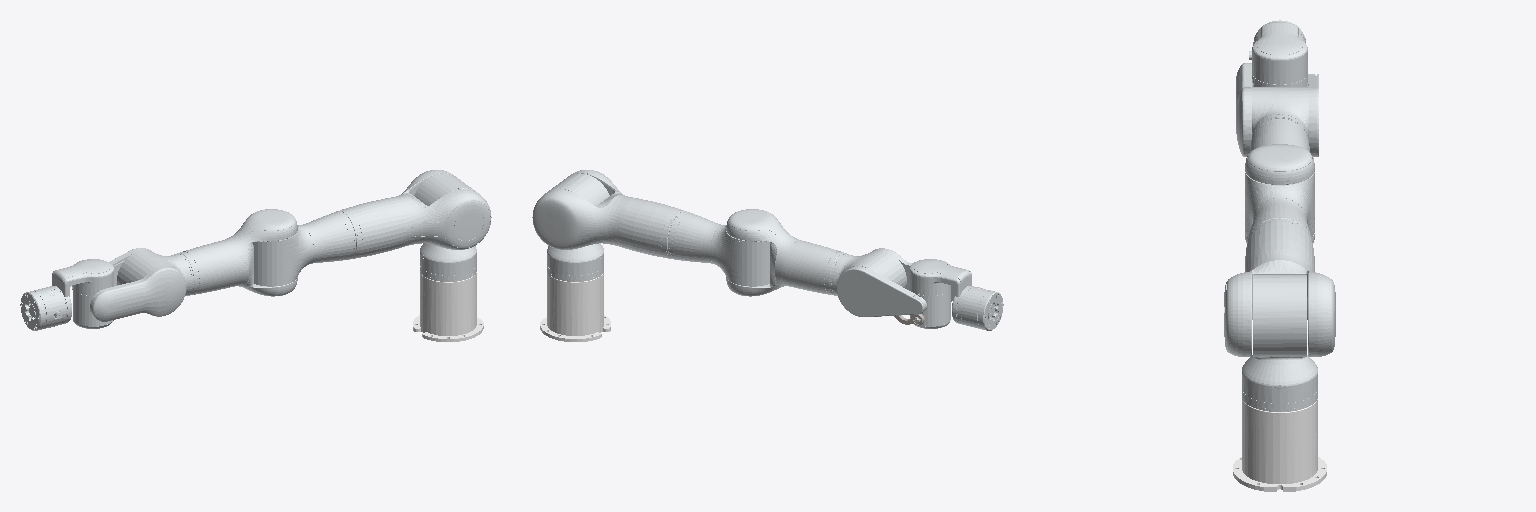
The robot description file, URDF, robot "RXR75S-6F-4C":
<?xml version="1.0" encoding="utf-8"?>
<!-- This URDF was automatically created by SolidWorks to URDF Exporter! Originally created by Stephen Brawner (brawner@gmail.com) 
     Commit Version: 1.6.0-1-g15f4949  Build Version: 1.6.7594.29634
     For more information, please see http://wiki.ros.org/sw_urdf_exporter -->
<robot
  name="RXR75S-6F-4C">
  <link
    name="r_baselink">
    <inertial>
      <origin
        xyz="0.000065 0.000085 0.062107"
        rpy="0 0 0" />
      <mass
        value="1.233" />
      <inertia
        ixx="0.001154175"
        ixy="-0.000000419"
        ixz="0.000004979"
        iyy="0.001152603"
        iyz="0.000003920"
        izz="0.000883372" />
    </inertial>
    <visual>
      <origin
        xyz="0 0 0"
        rpy="0 0 0" />
      <geometry>
        <mesh
          filename="package://RXR75S-6F-4C/meshes/r_baselink.STL" />
      </geometry>
      <material
        name="">
        <color
          rgba="1 1 1 1" />
      </material>
    </visual>
    <collision>
      <origin
        xyz="0 0 0"
        rpy="0 0 0" />
      <geometry>
        <mesh
          filename="package://RXR75S-6F-4C/meshes/r_baselink.STL" />
      </geometry>
    </collision>
  </link>
  <link
    name="r_link1">
    <inertial>
      <origin
        xyz="0.000138 0.000982 -0.012182"
        rpy="0 0 0" />
      <mass
        value="1.821" />
      <inertia
        ixx="0.003045204"
        ixy="-0.000009121"
        ixz="-0.000003017"
        iyy="0.002724994"
        iyz="-0.000038741"
        izz="0.001902354" />
    </inertial>
    <visual>
      <origin
        xyz="0 0 0"
        rpy="0 0 0" />
      <geometry>
        <mesh
          filename="package://RXR75S-6F-4C/meshes/r_link1.STL" />
      </geometry>
      <material
        name="">
        <color
          rgba="0.89804 0.91765 0.92941 1" />
      </material>
    </visual>
    <collision>
      <origin
        xyz="0 0 0"
        rpy="0 0 0" />
      <geometry>
        <mesh
          filename="package://RXR75S-6F-4C/meshes/r_link1.STL" />
      </geometry>
    </collision>
  </link>
  <joint
    name="r_joint1"
    type="revolute">
    <origin
      xyz="0 0 0.1855"
      rpy="0 0 0" />
    <parent
      link="r_baselink" />
    <child
      link="r_link1" />
    <axis
      xyz="0 0 1" />
    <limit
      lower="-3.054"
      upper="3.054"
      effort="60"
      velocity="3.14" />
  </joint>
  <link
    name="r_link2">
    <inertial>
      <origin
        xyz="0.000719 -0.098870 -0.001075"
        rpy="0 0 0" />
      <mass
        value="1.774" />
      <inertia
        ixx="0.007781312"
        ixy="-0.000016357"
        ixz="0.000000833"
        iyy="0.002081482"
        iyz="-0.00099706"
        izz="0.007252366" />
    </inertial>
    <visual>
      <origin
        xyz="0 0 0"
        rpy="0 0 0" />
      <geometry>
        <mesh
          filename="package://RXR75S-6F-4C/meshes/r_link2.STL" />
      </geometry>
      <material
        name="">
        <color
          rgba="0.89804 0.91765 0.92941 1" />
      </material>
    </visual>
    <collision>
      <origin
        xyz="0 0 0"
        rpy="0 0 0" />
      <geometry>
        <mesh
          filename="package://RXR75S-6F-4C/meshes/r_link2.STL" />
      </geometry>
    </collision>
  </link>
  <joint
    name="r_joint2"
    type="revolute">
    <origin
      xyz="0 0 0"
      rpy="-1.5708 -1.5708 0" />
    <parent
      link="r_link1" />
    <child
      link="r_link2" />
    <axis
      xyz="0 0 1" />
    <limit
      lower="-0.261"
      upper="3.054"
      effort="60"
      velocity="3.14" />
  </joint>
  <link
    name="r_link3">
    <inertial>
      <origin
        xyz="-0.000201 -0.000271 -0.016361"
        rpy="0 0 0" />
      <mass
        value="1.346" />
      <inertia
        ixx="0.002707032"
        ixy="-0.000009985"
        ixz="0.000003057"
        iyy="0.002346026"
        iyz="0.000037094"
        izz="0.001255553" />
    </inertial>
    <visual>
      <origin
        xyz="0 0 0"
        rpy="0 0 0" />
      <geometry>
        <mesh
          filename="package://RXR75S-6F-4C/meshes/r_link3.STL" />
      </geometry>
      <material
        name="">
        <color
          rgba="0.89804 0.91765 0.92941 1" />
      </material>
    </visual>
    <collision>
      <origin
        xyz="0 0 0"
        rpy="0 0 0" />
      <geometry>
        <mesh
          filename="package://RXR75S-6F-4C/meshes/r_link3.STL" />
      </geometry>
    </collision>
  </link>
  <joint
    name="r_joint3"
    type="revolute">
    <origin
      xyz="0 -0.292 0"
      rpy="1.5708 1.5708 0" />
    <parent
      link="r_link2" />
    <child
      link="r_link3" />
    <axis
      xyz="0 0 1" />
    <limit
      lower="-3.054"
      upper="3.054"
      effort="30"
      velocity="3.926" />
  </joint>
  <link
    name="r_link4">
    <inertial>
      <origin
        xyz="000002 0.089123 0.001105"
        rpy="0 0 0" />
      <mass
        value="1.062" />
      <inertia
        ixx="0.003237087"
        ixy="-0.000000084"
        ixz="0.000000030"
        iyy="0.000976520"
        iyz="0.000082638"
        izz="0.002922255" />
    </inertial>
    <visual>
      <origin
        xyz="0 0 0"
        rpy="0 0 0" />
      <geometry>
        <mesh
          filename="package://RXR75S-6F-4C/meshes/r_link4.STL" />
      </geometry>
      <material
        name="">
        <color
          rgba="0.89804 0.91765 0.92941 1" />
      </material>
    </visual>
    <collision>
      <origin
        xyz="0 0 0"
        rpy="0 0 0" />
      <geometry>
        <mesh
          filename="package://RXR75S-6F-4C/meshes/r_link4.STL" />
      </geometry>
    </collision>
  </link>
  <joint
    name="r_joint4"
    type="revolute">
    <origin
      xyz="0 0 0"
      rpy="1.5708 0 0" />
    <parent
      link="r_link3" />
    <child
      link="r_link4" />
    <axis
      xyz="0 0 1" />
    <limit
      lower="-1.832"
      upper="1.832"
      effort="30"
      velocity="3.926" />
  </joint>
  <link
    name="r_link5">
    <inertial>
      <origin
        xyz="-0.000456 -0.000702 -0.086593"
        rpy="0 0 0" />
      <mass
        value="1.027" />
      <inertia
        ixx="0.001673577"
        ixy="0.000016696"
        ixz="0.000028166"
        iyy="0.001401575"
        iyz="-0.000008909"
        izz="0.000908177" />
    </inertial>
    <visual>
      <origin
        xyz="0 0 0"
        rpy="0 0 0" />
      <geometry>
        <mesh
          filename="package://RXR75S-6F-4C/meshes/r_link5.STL" />
      </geometry>
      <material
        name="">
        <color
          rgba="0.89804 0.91765 0.92941 1" />
      </material>
    </visual>
    <collision>
      <origin
        xyz="0 0 0"
        rpy="0 0 0" />
      <geometry>
        <mesh
          filename="package://RXR75S-6F-4C/meshes/r_link5.STL" />
      </geometry>
    </collision>
  </link>
  <joint
    name="r_joint5"
    type="revolute">
    <origin
      xyz="0 0.294 0"
      rpy="1.5708 1.5708 3.14" />
    <parent
      link="r_link4" />
    <child
      link="r_link5" />
    <axis
      xyz="0 0 1" />
    <limit
      lower="-2.967"
      upper="2.967"
      effort="10"
      velocity="3.926" />
  </joint>
  <link
    name="r_link6">
    <inertial>
      <origin
        xyz="0.000002 -0.000177 -0.000103"
        rpy="0 0 0" />
      <mass
        value="0.637" />
      <inertia
        ixx="0.000356765"
        ixy="-0.000000060"
        ixz="-0.000000019"
        iyy="0.000264812"
        iyz="-0.000002895"
        izz="0.000353493" />
    </inertial>
    <visual>
      <origin
        xyz="0 0 0"
        rpy="0 0 0" />
      <geometry>
        <mesh
          filename="package://RXR75S-6F-4C/meshes/r_link6.STL" />
      </geometry>
      <material
        name="">
        <color
          rgba="0.89804 0.91765 0.92941 1" />
      </material>
    </visual>
    <collision>
      <origin
        xyz="0 0 0"
        rpy="0 0 0" />
      <geometry>
        <mesh
          filename="package://RXR75S-6F-4C/meshes/r_link6.STL" />
      </geometry>
    </collision>
  </link>
  <joint
    name="r_joint6"
    type="revolute">
    <origin
      xyz="0 0 0"
      rpy="1.5708 1.5708 0" />
    <parent
      link="r_link5" />
    <child
      link="r_link6" />
    <axis
      xyz="0 0 1" />
    <limit
      lower="-0.349"
      upper="1.134"
      effort="10"
      velocity="3.926" />
  </joint>
  <link
    name="r_link7">
    <inertial>
      <origin
        xyz="-0.000072 0.026810 -0.023405"
        rpy="0 0 0" />
      <mass
        value="0.148" />
      <inertia
        ixx="0.000200650"
        ixy="0.000000322"
        ixz="0.000000255"
        iyy="0.000108937"
        iyz="-0.000055595"
        izz="0.000180919" />
    </inertial>
    <visual>
      <origin
        xyz="0 0 0"
        rpy="0 0 0" />
      <geometry>
        <mesh
          filename="package://RXR75S-6F-4C/meshes/r_link7.STL" />
      </geometry>
      <material
        name="">
        <color
          rgba="0.89804 0.91765 0.92941 1" />
      </material>
    </visual>
    <collision>
      <origin
        xyz="0 0 0"
        rpy="0 0 0" />
      <geometry>
        <mesh
          filename="package://RXR75S-6F-4C/meshes/r_link7.STL" />
      </geometry>
    </collision>
  </link>
  <joint
    name="r_joint7"
    type="revolute">
    <origin
      xyz="0 0 0"
      rpy="1.5708 -1.5708 0" />
    <parent
      link="r_link6" />
    <child
      link="r_link7" />
    <axis
      xyz="0 0 1" />
    <limit
      lower="-1.57"
      upper="1.745"
      effort="10"
      velocity="3.926" />
  </joint>
  <link
    name="r_link8">
    <inertial>
      <origin
        xyz="0.000103 0.000009 -0.016572"
        rpy="0 0 0" />
      <mass
        value="0.22" />
      <inertia
        ixx="0.000090941"
        ixy="-0.000000052"
        ixz="0.000000373"
        iyy="0.000091701"
        iyz="-0.000000037"
        izz="0.000115271" />
    </inertial>
    <visual>
      <origin
        xyz="0 0 0"
        rpy="0 0 0" />
      <geometry>
        <mesh
          filename="package://RXR75S-6F-4C/meshes/r_link8.STL" />
      </geometry>
      <material
        name="">
        <color
          rgba="0.89804 0.91765 0.92941 1" />
      </material>
    </visual>
    <collision>
      <origin
        xyz="0 0 0"
        rpy="0 0 0" />
      <geometry>
        <mesh
          filename="package://RXR75S-6F-4C/meshes/r_link8.STL" />
      </geometry>
    </collision>
  </link>
  <joint
    name="r_joint8"
    type="fixed">
    <origin
      xyz="0 0.105 0"
      rpy="-1.5708 0 0" />
    <parent
      link="r_link7" />
    <child
      link="r_link8" />
    <axis
      xyz="0 0 0" />
  </joint>
  <link
    name="r_link9">
    <inertial>
      <origin
        xyz="1.3444E-14 0.042145 0.0033433"
        rpy="0 0 0" />
      <mass
        value="0.001" />
      <inertia
        ixx="3.5427E-05"
        ixy="1.1101E-17"
        ixz="-1.1681E-23"
        iyy="6.2783E-07"
        iyz="1.2261E-22"
        izz="3.5783E-05" />
    </inertial>
    <visual>
      <origin
        xyz="0 0 0"
        rpy="0 0 0" />
      <geometry>
        <mesh
          filename="package://RXR75S-6F-4C/meshes/r_link9.STL" />
      </geometry>
      <material
        name="">
        <color
          rgba="0.77647 0.75686 0.73725 1" />
      </material>
    </visual>
    <collision>
      <origin
        xyz="0 0 0"
        rpy="0 0 0" />
      <geometry>
        <mesh
          filename="package://RXR75S-6F-4C/meshes/r_link9.STL" />
      </geometry>
    </collision>
  </link>
  <joint
    name="r_joint9"
    type="revolute">
    <origin
      xyz="0 -0.022 -0.038"
      rpy="0 0 -1.5708" />
    <parent
      link="r_link6" />
    <child
      link="r_link9" />
    <axis
      xyz="0 0 -1" />
    <limit
      lower="-0.349"
      upper="1.134"
      effort="10"
      velocity="3.926" />
    <mimic joint="r_joint6" multiplier="1"  offset="0"/>
  </joint>
</robot>

--- Facts derived from the render (not from the file) ---
3 views of the same robot in one strip: view 1: azimuth 30°, elevation 25°; view 2: azimuth 150°, elevation 25°; view 3: azimuth 270°, elevation 25° (orthographic).
Model RXR75S-6F-4C with 10 links and 9 joints (8 revolute, 1 fixed), rooted at r_baselink, posed every joint at zero.
Visible links, largest first — view 1: r_link2, r_link5, r_link4, r_link3, r_baselink, r_link1, r_link7, r_link8, r_link6; view 2: r_link2, r_link4, r_link5, r_link3, r_baselink, r_link1, r_link7, r_link8, r_link6; view 3: r_link1, r_link2, r_baselink, r_link5, r_link4, r_link3, r_link7.
Link boxes in pixels (x1,y1,x2,y2): r_link2: (340, 170, 491, 258); r_link5: (72, 248, 193, 321); r_link4: (180, 209, 297, 296); r_link3: (253, 211, 355, 286); r_baselink: (413, 272, 483, 341); r_link1: (414, 173, 476, 281); r_link7: (52, 259, 113, 323); r_link8: (20, 286, 67, 330); r_link6: (73, 290, 113, 328); r_link2: (532, 170, 683, 258); r_link4: (726, 209, 843, 296); r_link5: (830, 248, 953, 316); r_link3: (668, 211, 769, 286); r_baselink: (540, 272, 610, 341); r_link1: (547, 173, 609, 281); r_link7: (910, 259, 971, 323); r_link8: (956, 286, 1003, 330); r_link6: (910, 290, 950, 328); r_link1: (1242, 275, 1317, 411); r_link2: (1224, 218, 1335, 356); r_baselink: (1233, 399, 1326, 491); r_link5: (1236, 63, 1318, 156); r_link4: (1245, 117, 1314, 242); r_link3: (1245, 172, 1314, 238); r_link7: (1252, 22, 1307, 84).
Size in the robot's own frame: 0.7391 by 0.12 by 0.2425 metres.
10 mesh visuals loaded from 10 distinct referenced files (10 binary STL).
